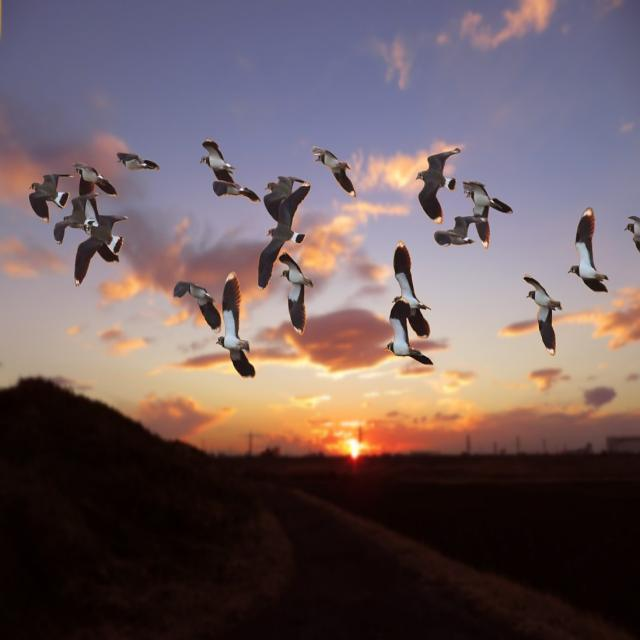bird: (256, 188, 312, 285), (389, 238, 434, 342), (211, 276, 257, 375), (412, 143, 462, 224), (517, 276, 565, 357), (199, 139, 259, 203), (76, 213, 126, 287), (271, 254, 314, 333), (260, 179, 312, 244), (571, 207, 608, 297), (386, 298, 433, 356), (173, 280, 219, 332), (309, 149, 356, 197), (433, 215, 493, 252), (462, 180, 516, 217), (27, 176, 71, 221), (70, 160, 118, 200), (55, 193, 93, 238), (116, 147, 160, 182), (625, 211, 640, 260)
